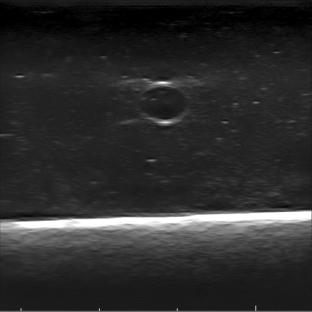vessel: (135, 80, 190, 125)
